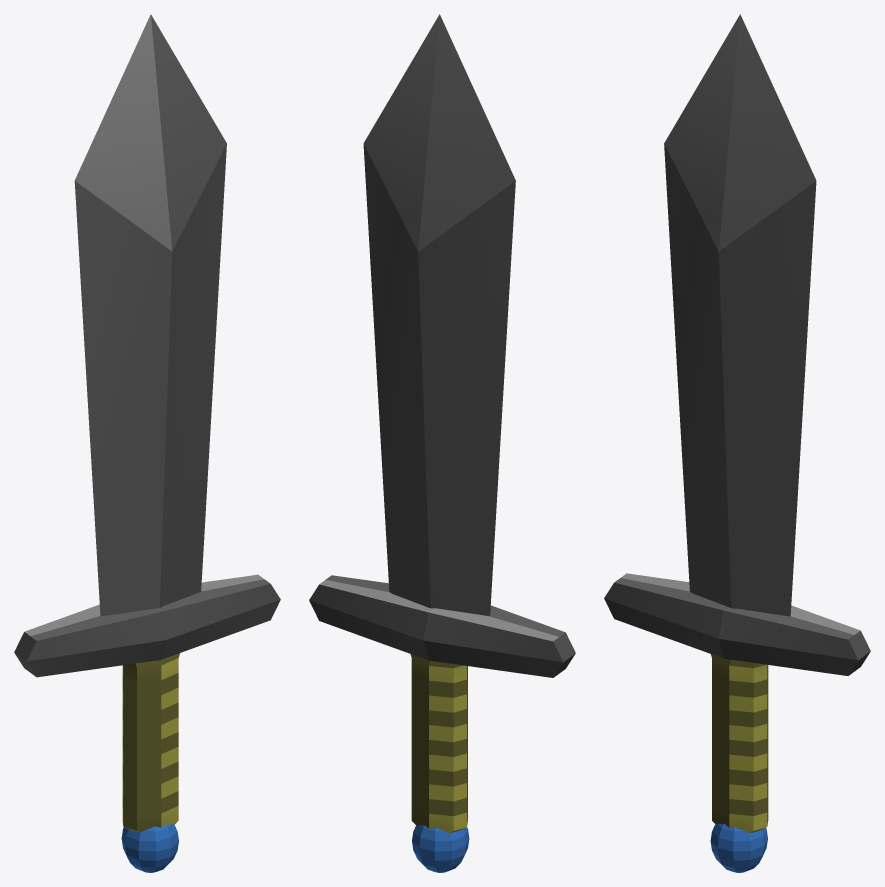
The model's file is Sword04.fbx.
The picture shows the model from 3 angles, left to right: view 1: azimuth 30°, elevation 25°; view 2: azimuth 150°, elevation 25°; view 3: azimuth 330°, elevation 25°; orthographic projection.
Parts seen in each view (by area): view 1: SwordBroad; view 2: SwordBroad; view 3: SwordBroad.
Part boxes in pixels (x1,y1,x2,y2): SwordBroad: [14, 14, 280, 872]; SwordBroad: [309, 14, 575, 872]; SwordBroad: [604, 14, 870, 872].
Bounding box in the file's own units: 0.1131 × 0.3638 × 0.0331.
